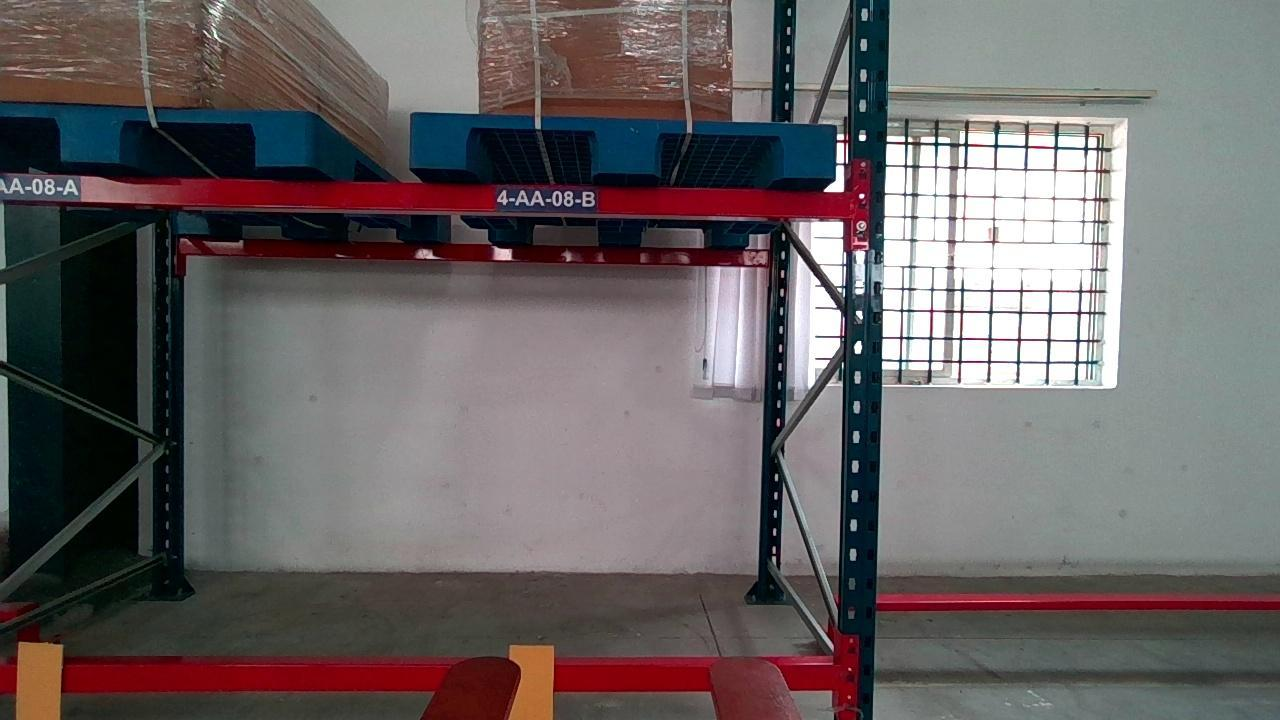h_rack: (2, 172, 855, 218), (0, 661, 831, 695)
orange_strip: (506, 640, 554, 720), (16, 641, 61, 718)
small_pallet: (407, 115, 840, 182), (0, 103, 322, 164)
